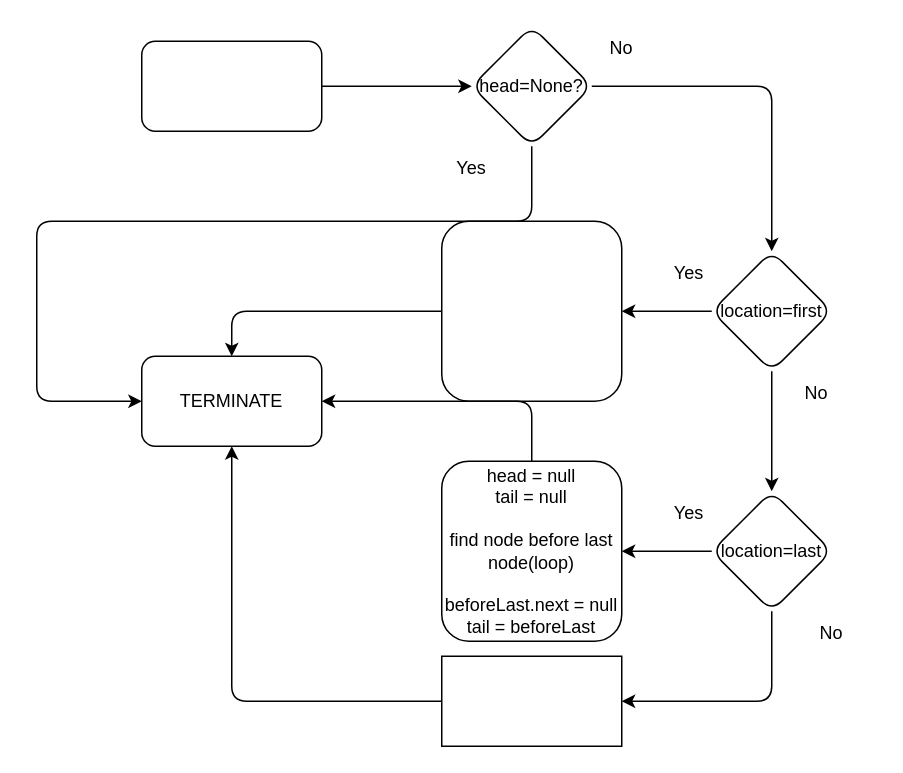
This 903x773 diagram has some shape labels left out. The shapes that lost their labels are listed below. From the top down, each one's centre as x and y in pixels, then its label:
At point (231, 85): "Location".
At point (531, 310): "head = null tail = null head = first.next".
At point (531, 700): "-find location(loop) - cuurrent.next = nextNode.next".
